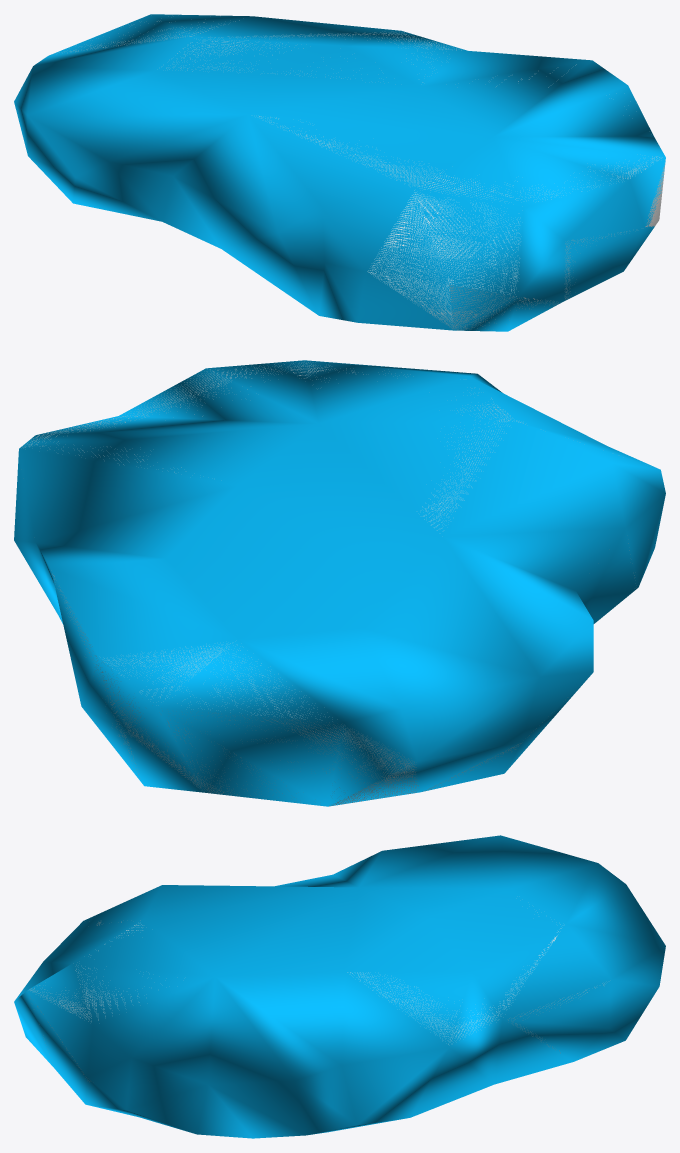
The model's file is PF_Rock_Plate.glb.
3 renders of one model, top to bottom at view 1: azimuth 30°, elevation 25°; view 2: azimuth 150°, elevation 25°; view 3: azimuth 270°, elevation 25°, orthographic. The views are drawn at different scales.
Visible parts, largest first — view 1: SM_Rock_Plate-gcc-stone, SM_Rock_Plate; view 2: SM_Rock_Plate-gcc-stone, SM_Rock_Plate; view 3: SM_Rock_Plate-gcc-stone, SM_Rock_Plate.
Boxes of the visible parts, left/top/right/bottom form: SM_Rock_Plate-gcc-stone: left=14, top=14, right=665, bottom=331; SM_Rock_Plate: left=59, top=20, right=665, bottom=330; SM_Rock_Plate-gcc-stone: left=14, top=360, right=665, bottom=806; SM_Rock_Plate: left=25, top=362, right=634, bottom=806; SM_Rock_Plate-gcc-stone: left=14, top=835, right=665, bottom=1138; SM_Rock_Plate: left=29, top=912, right=604, bottom=1081.
Bounding box in the file's own units: 24.16 × 5.52 × 28.53.
